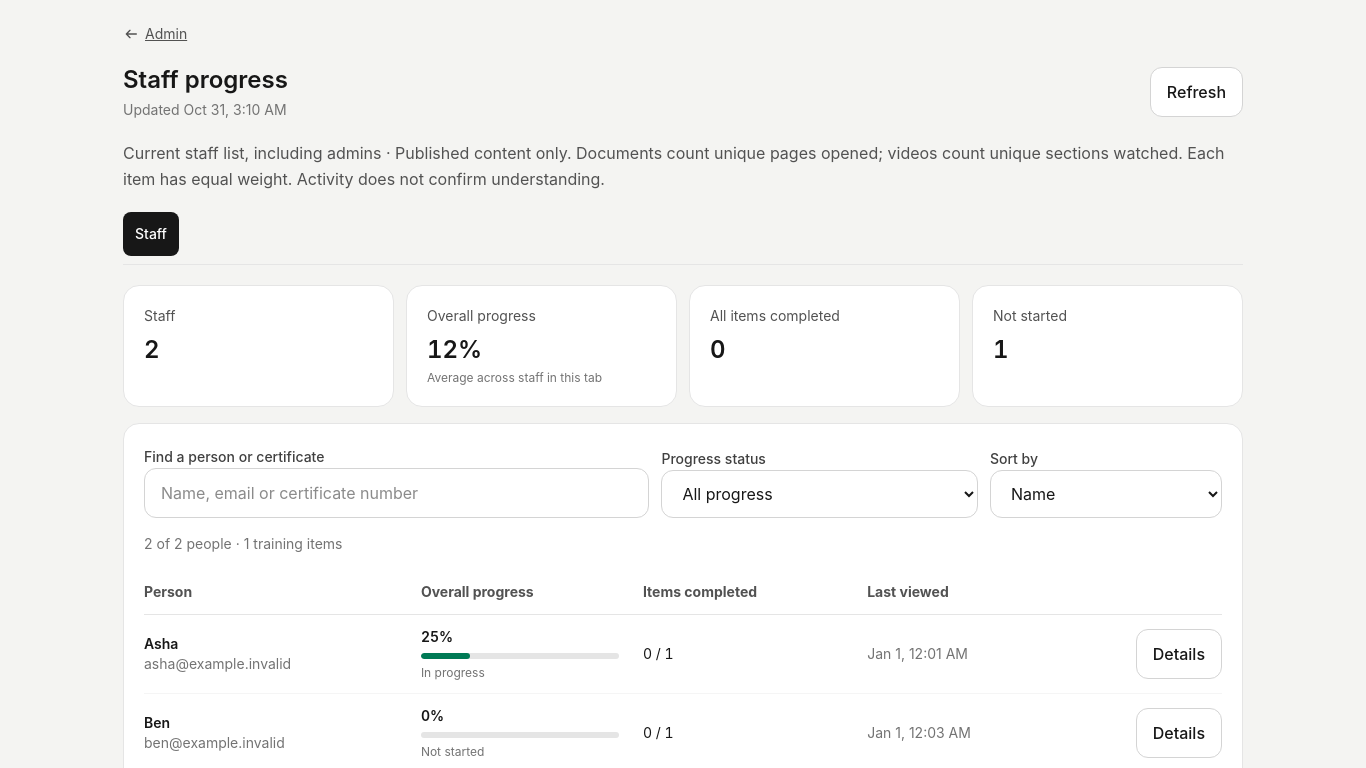
Test case: sorts staff by coverage and last viewing, and keeps the previous report when refresh fails
Expected: the text "Asha" is shown, [144,635,178,652]
Select "Lowest progress" in the dropdown labelled "Sort by": (1106, 494) [990,470,1222,518]
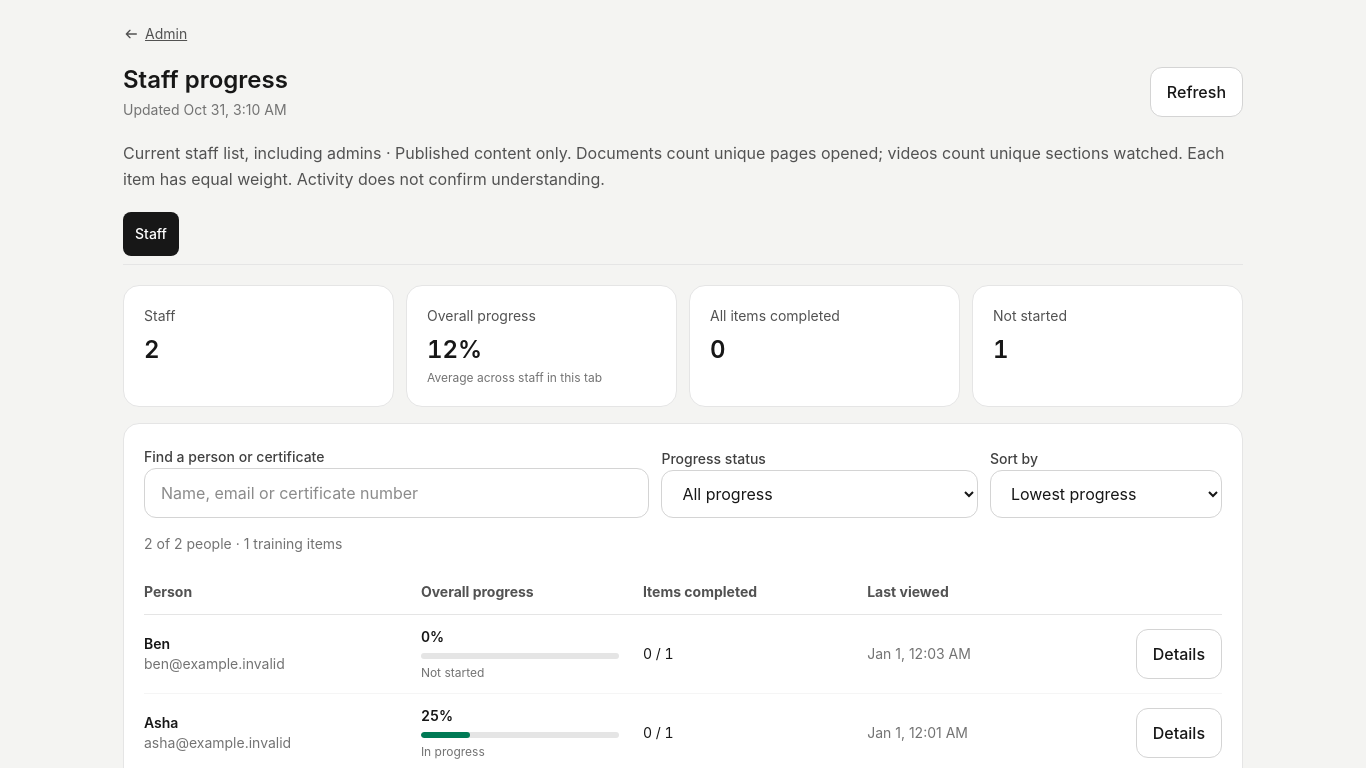
Expected: the column heading "Ben ben@example.invalid" is shown, [144,615,409,694]
Select "Highest progress" in the dropdown labelled "Sort by": (1106, 494) [990,470,1222,518]
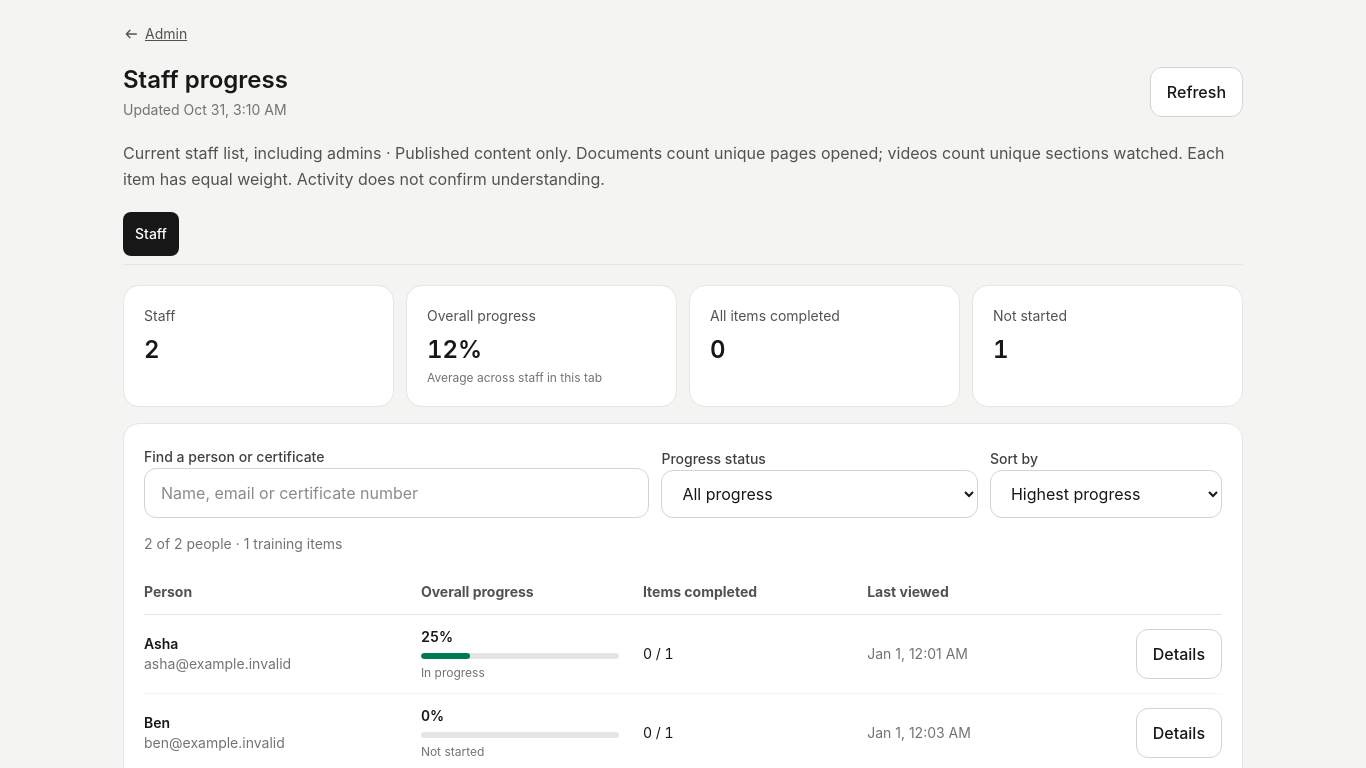
Expected: the column heading "Asha asha@example.invalid" is shown, [144,615,409,694]
Select "Recent activity" in the dropdown labelled "Sort by": (1106, 494) [990,470,1222,518]
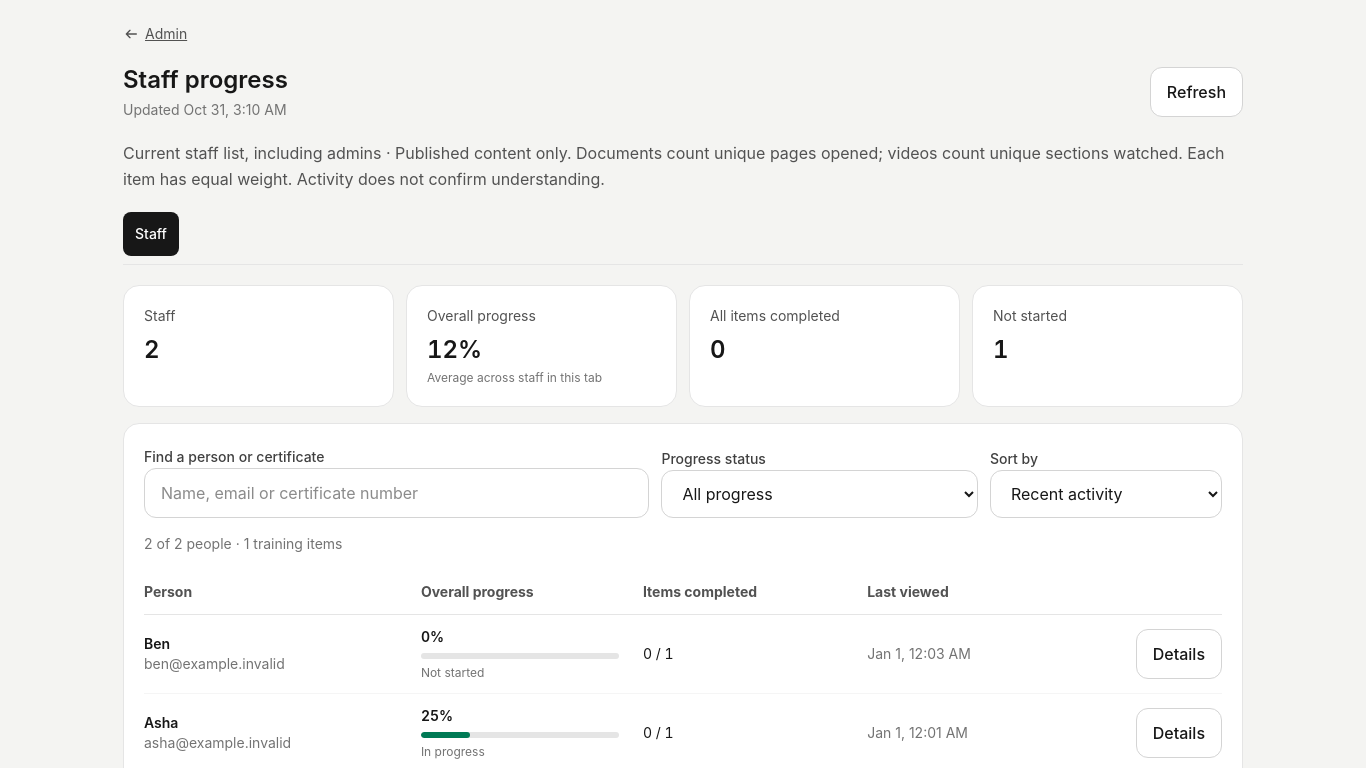
Expected: the column heading "Ben ben@example.invalid" is shown, [144,615,409,694]
Click the button "Refresh": (1196, 92) [1150,67,1243,117]
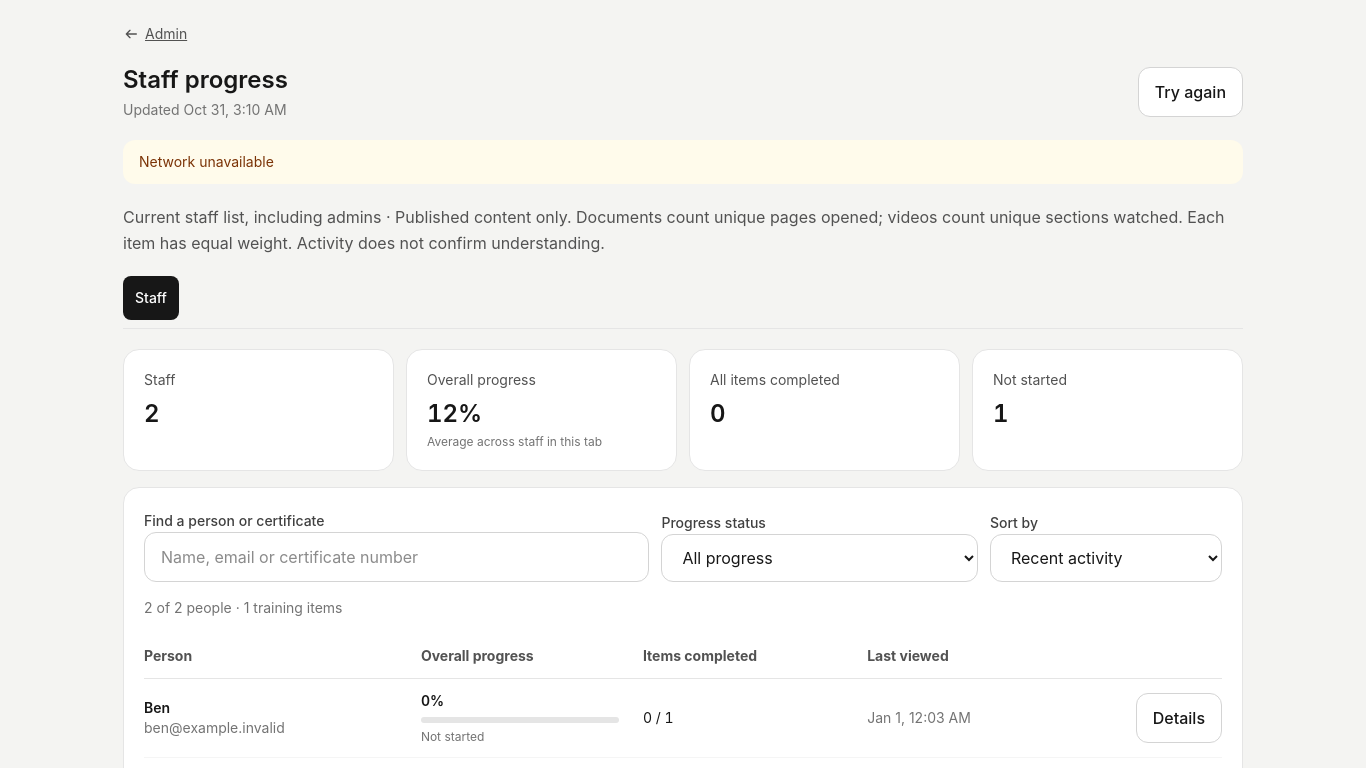
Expected: the text "Ben" is shown, [144,699,170,716]
Now the message "Network unavailable" is shown, box [123,140,1243,184]
